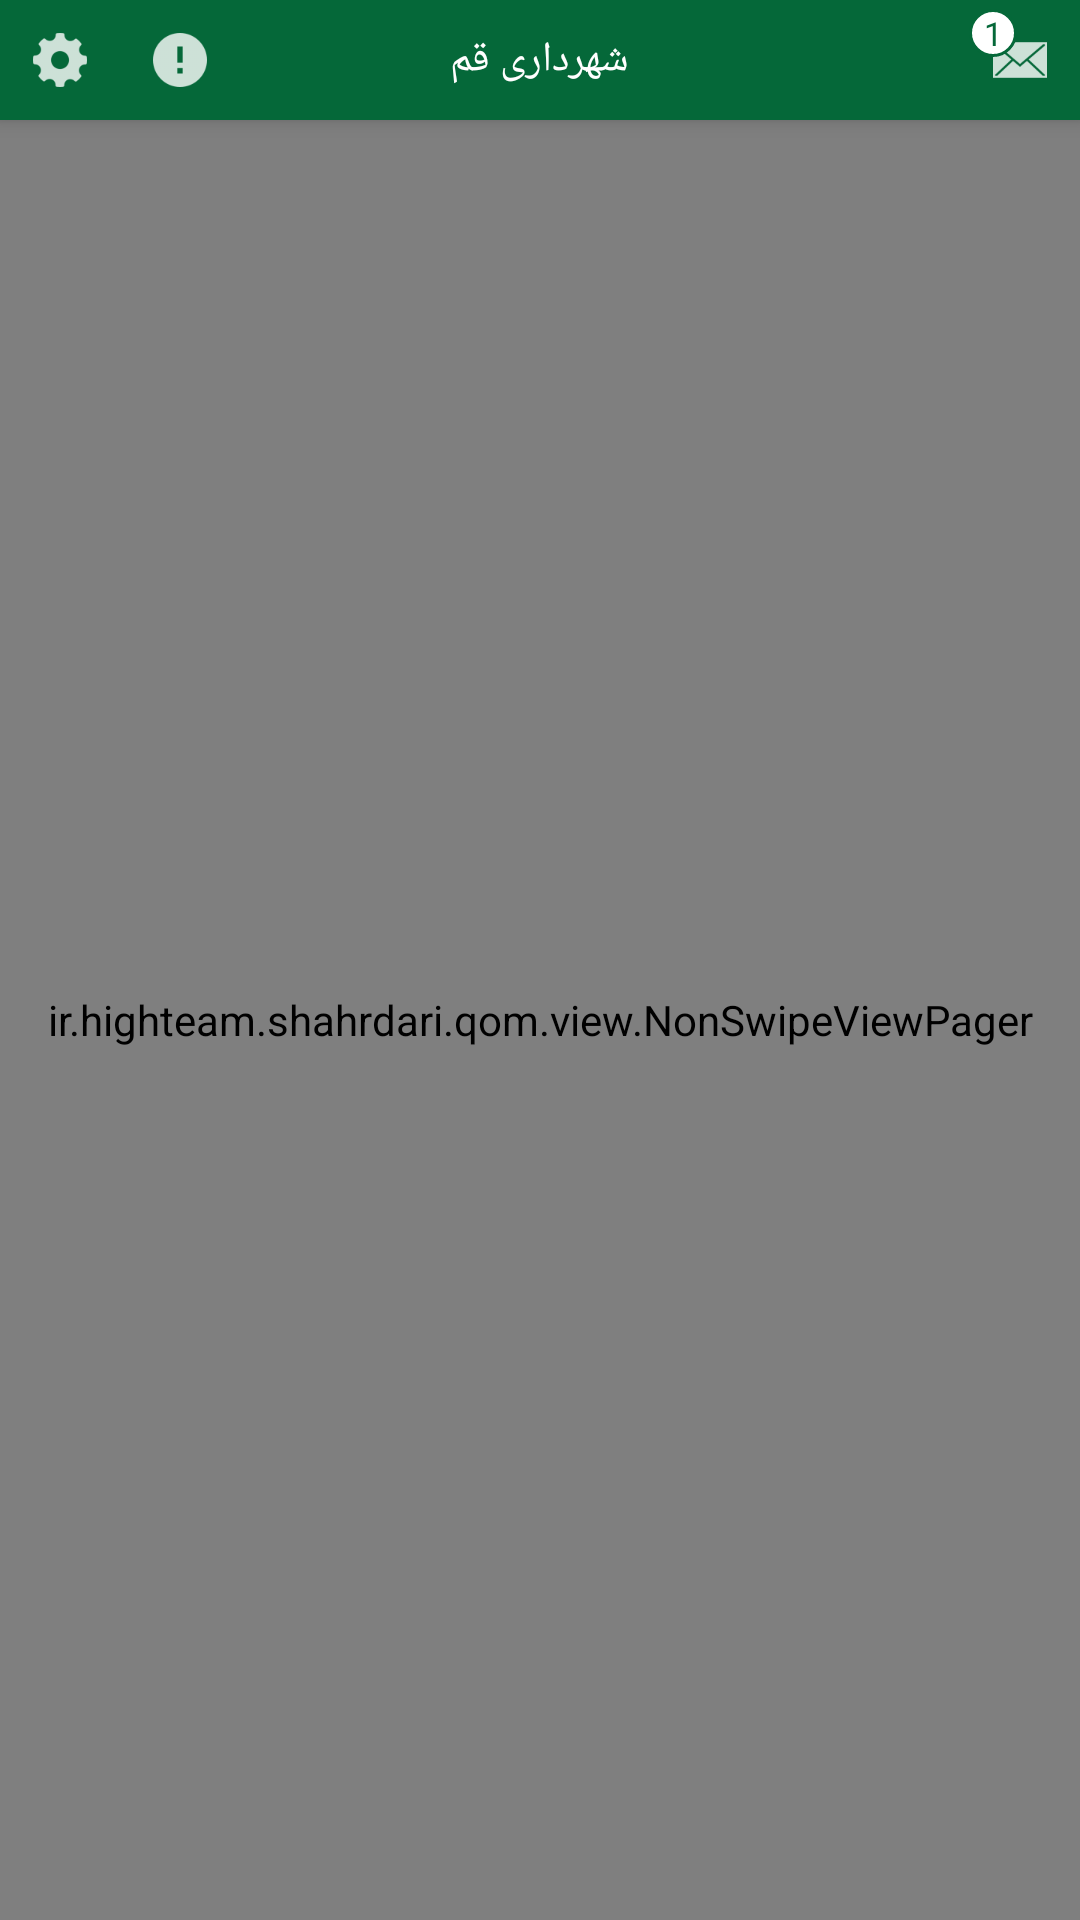

Where icons sit on this 1080x1920 app screen, as [x1=x1, y1=y1, x2=x2, y2=y2]:
close email: [x1=972, y1=12, x2=1047, y2=78]
setting: [x1=33, y1=33, x2=87, y2=87]
